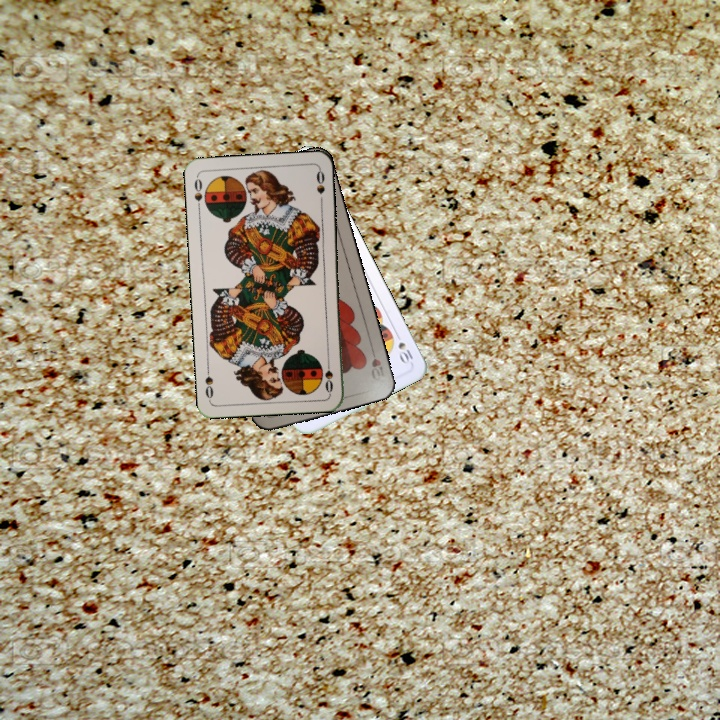H10: (367, 343, 389, 383)
S10: (391, 328, 416, 367)
SO: (321, 354, 336, 395), (190, 173, 205, 213)
